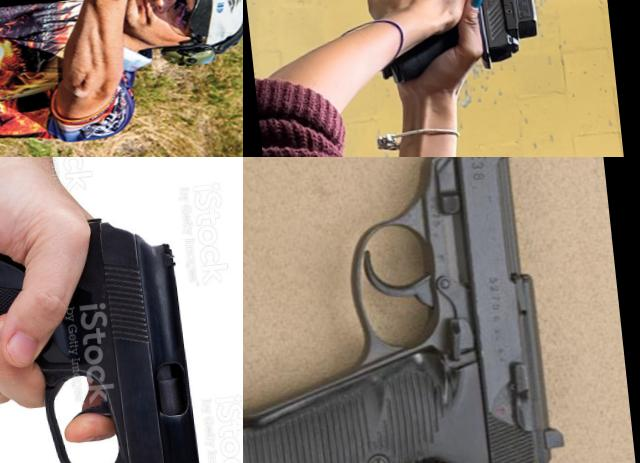handgun: (243, 157, 573, 463), (0, 201, 217, 463), (362, 0, 544, 90), (71, 0, 192, 21)
